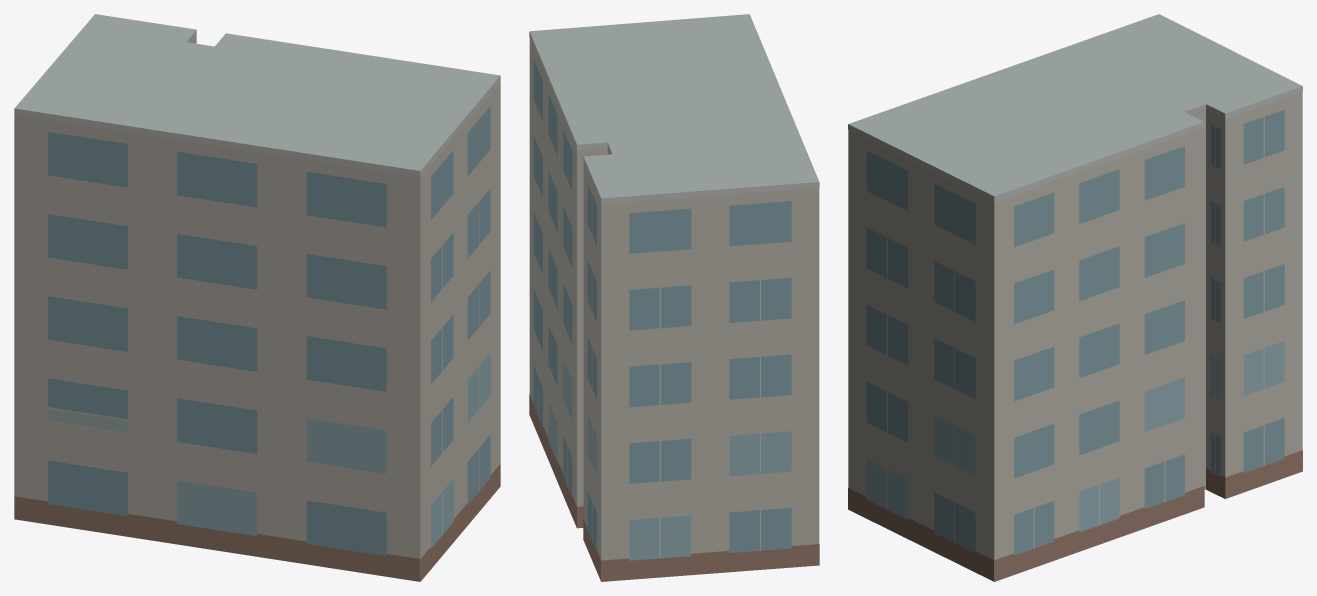
The model's file is survey-upis-32866987.glb.
3 renders of one model, left to right at view 1: azimuth 30°, elevation 25°; view 2: azimuth 150°, elevation 25°; view 3: azimuth 270°, elevation 25°, orthographic. The views are drawn at different scales.
Parts seen in each view (by area): view 1: survey-upis-32866987.tmp; view 2: survey-upis-32866987.tmp; view 3: survey-upis-32866987.tmp.
Boxes of the visible parts, x1=… form: survey-upis-32866987.tmp: x1=14, y1=14, x2=500, y2=581; survey-upis-32866987.tmp: x1=529, y1=14, x2=819, y2=581; survey-upis-32866987.tmp: x1=848, y1=14, x2=1302, y2=581.
Bounding box in the file's own units: 16.55 × 16.3 × 17.43.
